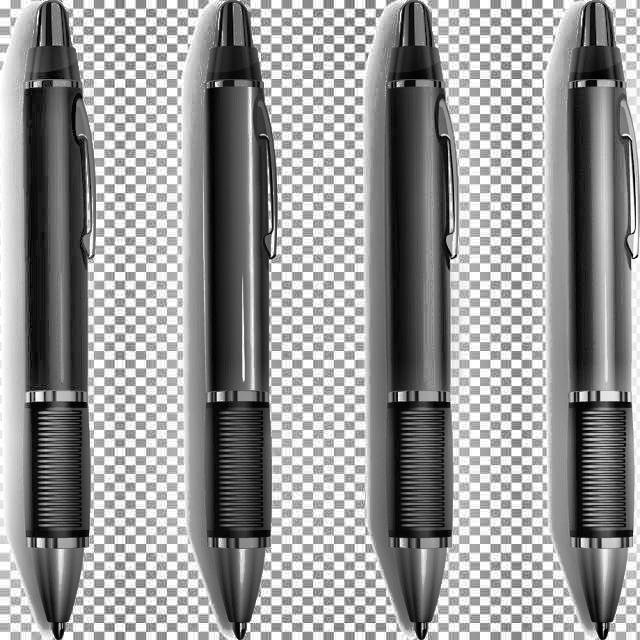Pen: (22, 3, 97, 639), (388, 1, 459, 636), (564, 3, 635, 638), (207, 1, 276, 639)
